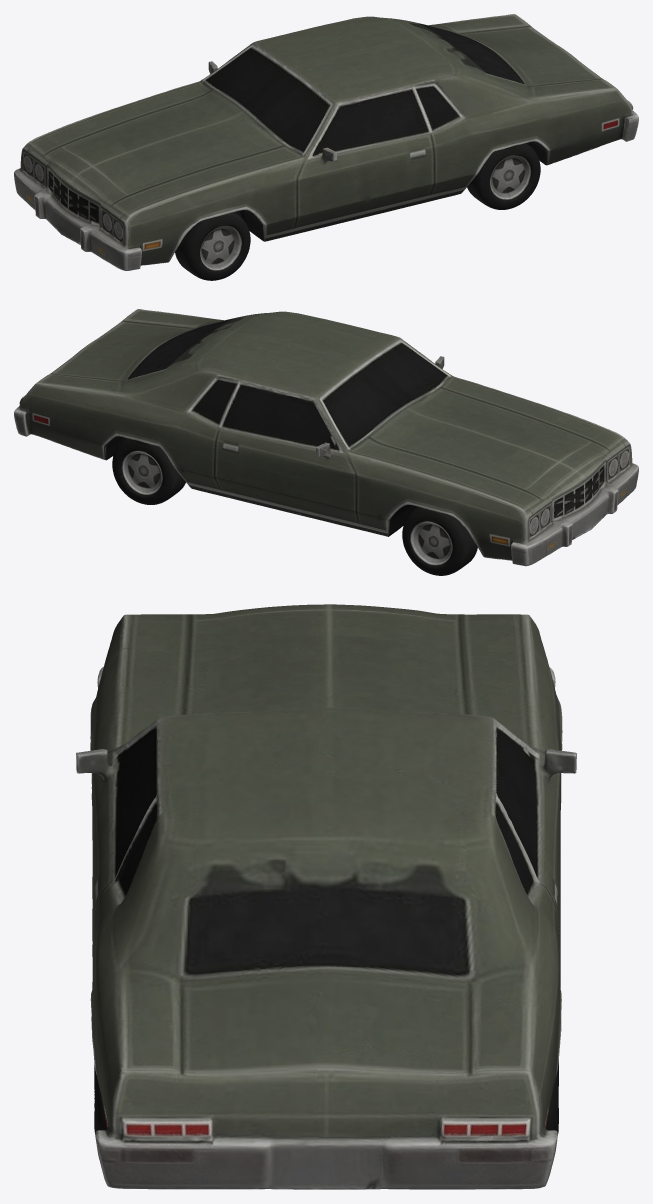
The model's file is carro_driver2_otimizado.glb.
3 views of the same model, one above another, from view 1: azimuth 30°, elevation 25°; view 2: azimuth 150°, elevation 25°; view 3: azimuth 270°, elevation 25° (orthographic). The views are drawn at different scales.
Parts seen in each view (by area): view 1: Carro_Driver2_Carroceria_E_Detalhes; view 2: Carro_Driver2_Carroceria_E_Detalhes; view 3: Carro_Driver2_Carroceria_E_Detalhes.
Boxes of the visible parts, box(x1,y1,x2,y2) form: Carro_Driver2_Carroceria_E_Detalhes: box(14, 14, 638, 280); Carro_Driver2_Carroceria_E_Detalhes: box(14, 309, 638, 575); Carro_Driver2_Carroceria_E_Detalhes: box(76, 604, 576, 1189).
Bounding box in the file's own units: 1.9 × 0.4883 × 0.7822.
Materials: 1 (1 with a texture image).
